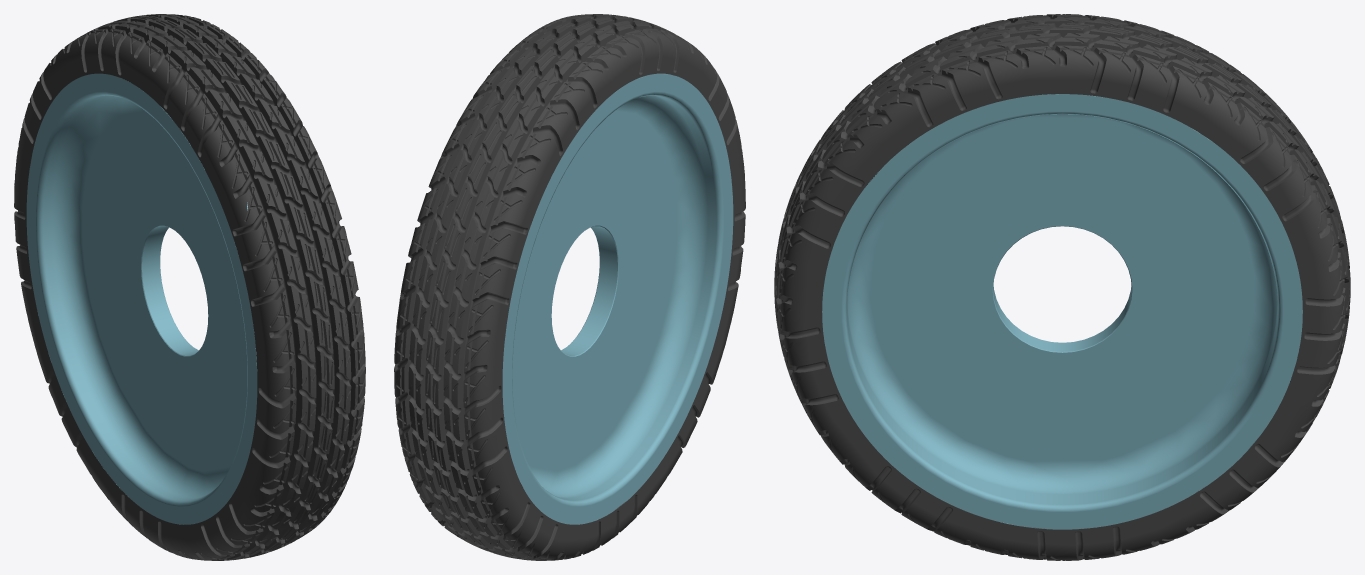
File: 轻量化250X50天然橡胶（混合花纹）.fbx
3 renders of one model, left to right at view 1: azimuth 30°, elevation 25°; view 2: azimuth 150°, elevation 25°; view 3: azimuth 270°, elevation 25°, orthographic. The views are drawn at different scales.
Parts seen in each view (by area): view 1: 250X50ÌìÈ»Ïð½º£¨»ìºÏ»¨ÎÆ£©; view 2: 250X50ÌìÈ»Ïð½º£¨»ìºÏ»¨ÎÆ£©; view 3: 250X50ÌìÈ»Ïð½º£¨»ìºÏ»¨ÎÆ£©.
Part boxes in pixels (box(x1,y1,x2,y2)): 250X50ÌìÈ»Ïð½º£¨»ìºÏ»¨ÎÆ£©: box(14, 14, 365, 560); 250X50ÌìÈ»Ïð½º£¨»ìºÏ»¨ÎÆ£©: box(394, 14, 745, 560); 250X50ÌìÈ»Ïð½º£¨»ìºÏ»¨ÎÆ£©: box(774, 14, 1350, 560).
Bounding box in the file's own units: 50 × 250 × 250.
